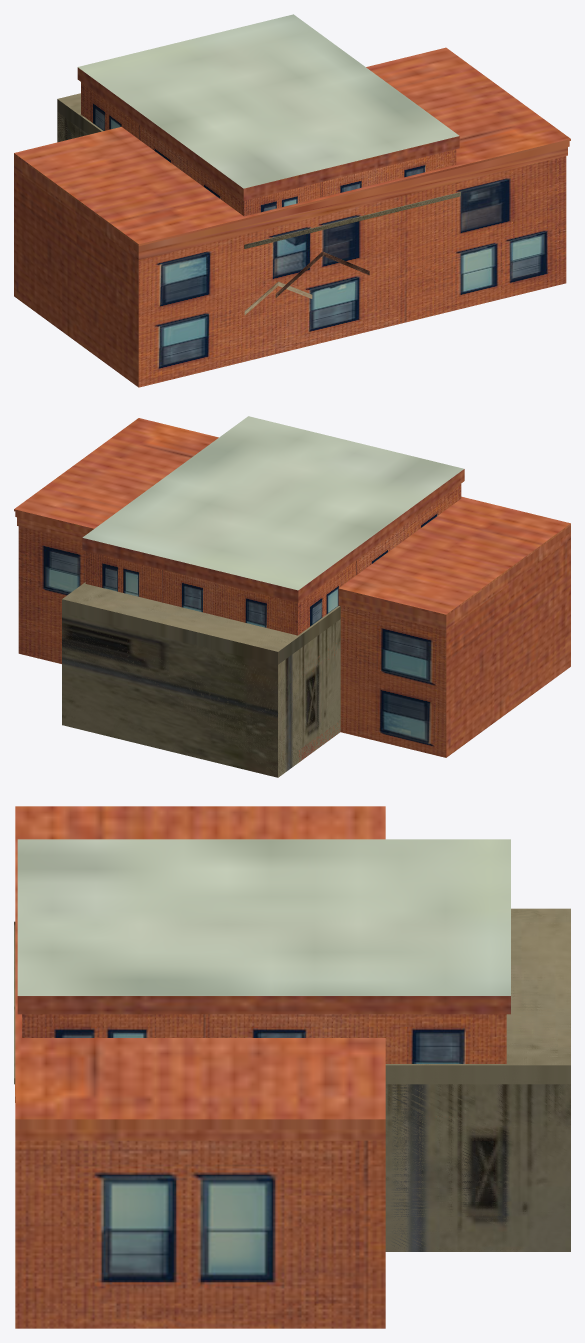
File: xTraUrgent Tenement Houses.glb
3 renders of one model, top to bottom at view 1: azimuth 30°, elevation 25°; view 2: azimuth 150°, elevation 25°; view 3: azimuth 270°, elevation 25°, orthographic. The views are drawn at different scales.
Visible parts, largest first — view 1: CShop2-col, CShop1-col, CHouse2-col, CHouse1-col, kHouse3-col; view 2: CShop2-col, CShop1-col, CHouse1-col, CHouse2-col; view 3: CShop2-col, CShop1-col, CHouse1-col, CHouse2-col.
Part boxes in pixels (left/top/right/bottom): CShop2-col: left=14, top=47, right=570, bottom=387; CShop1-col: left=77, top=14, right=459, bottom=216; CHouse2-col: left=57, top=93, right=460, bottom=246; CHouse1-col: left=57, top=99, right=460, bottom=248; kHouse3-col: left=275, top=251, right=369, bottom=297; CShop2-col: left=14, top=418, right=570, bottom=757; CShop1-col: left=82, top=416, right=464, bottom=762; CHouse1-col: left=62, top=582, right=340, bottom=777; CHouse2-col: left=62, top=582, right=340, bottom=773; CShop2-col: left=15, top=806, right=385, bottom=1328; CShop1-col: left=17, top=839, right=510, bottom=1116; CHouse1-col: left=14, top=908, right=570, bottom=1251; CHouse2-col: left=14, top=908, right=570, bottom=1251.
Bounding box in the file's own units: 25 × 9.54 × 18.79.
Materials: 6 (6 with a texture image).
